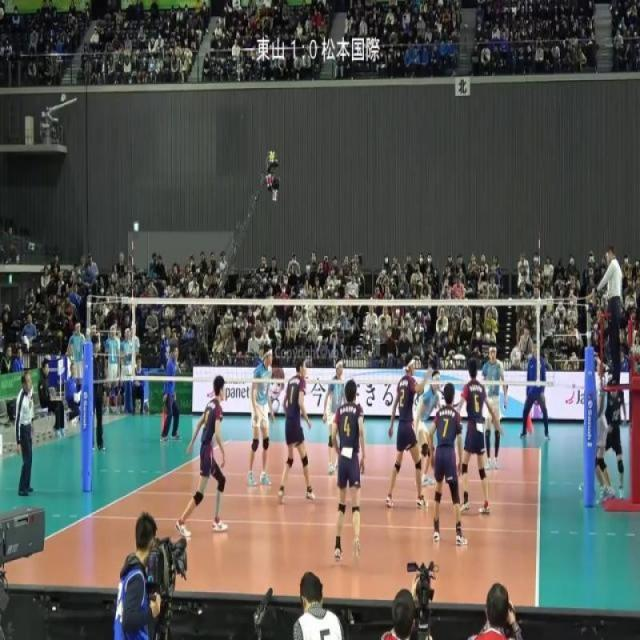volleyball: (509, 346, 522, 366)
